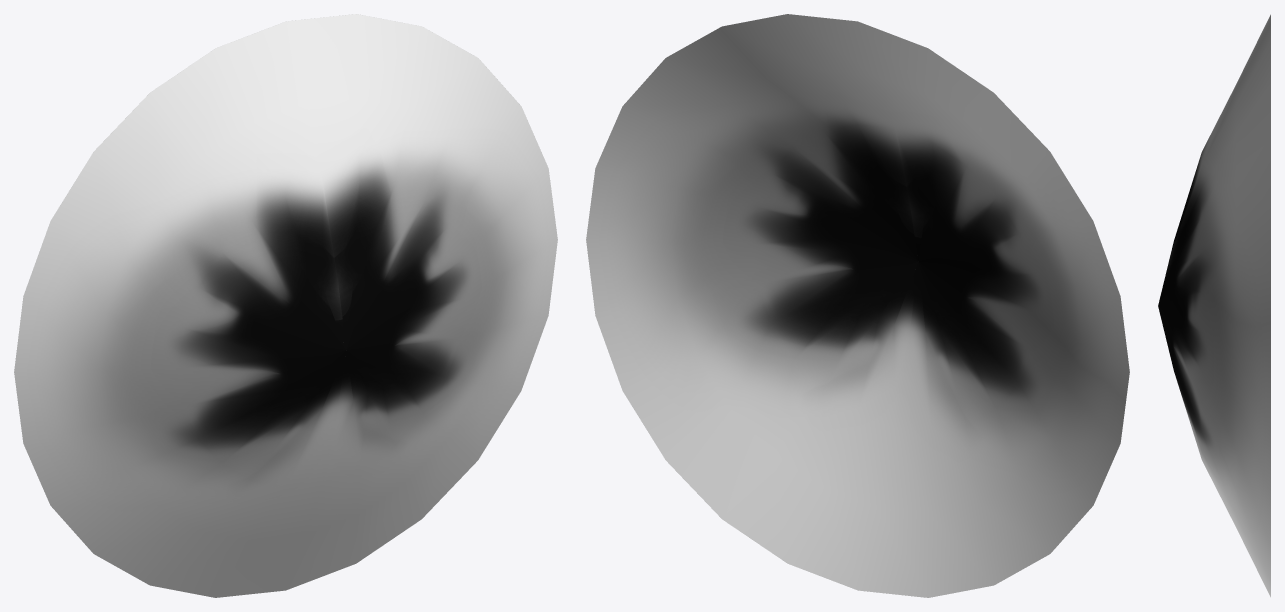
File: BeamC.fbx
3 renders of one model, left to right at view 1: azimuth 30°, elevation 25°; view 2: azimuth 150°, elevation 25°; view 3: azimuth 270°, elevation 25°, orthographic. The views are drawn at different scales.
Parts seen in each view (by area): view 1: CircleFrontSphereHorizontal; view 2: CircleFrontSphereHorizontal; view 3: CircleFrontSphereHorizontal.
Part boxes in pixels (<box>): CircleFrontSphereHorizontal: <box>14,14,557,597</box>; CircleFrontSphereHorizontal: <box>586,14,1129,597</box>; CircleFrontSphereHorizontal: <box>1158,14,1270,597</box>.
Bounding box in the file's own units: 91.36 × 91.36 × 17.59.
1 material, 1 textured.
